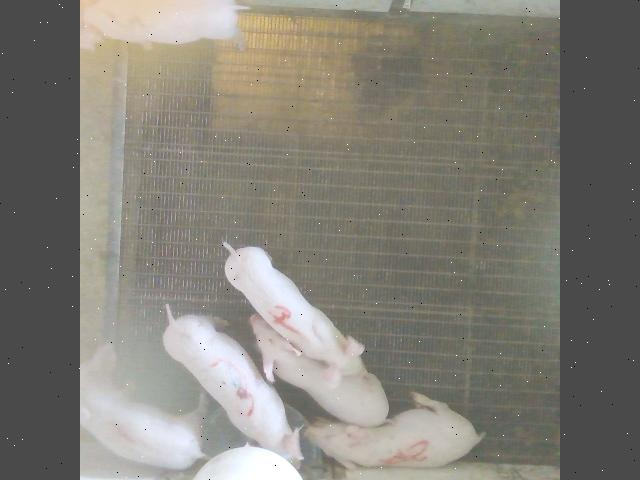pig-1: (81, 381, 202, 469)
pig-2: (82, 0, 245, 48)
pig-3: (164, 306, 302, 461)
pig-4: (224, 243, 364, 384)
pig-5: (304, 391, 484, 468)
